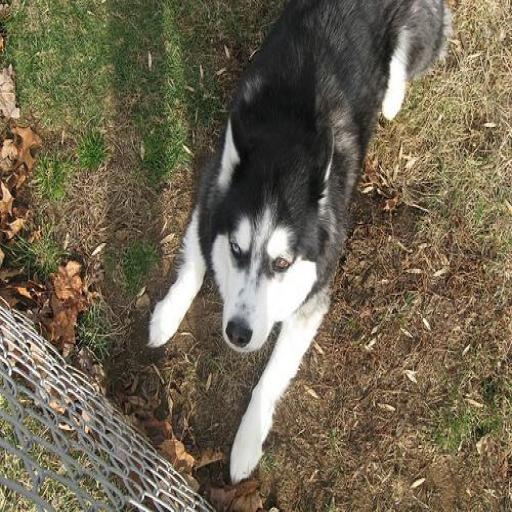dog_face: (206, 132, 336, 351)
